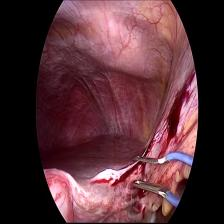Bipolar: (131, 150, 196, 208)
